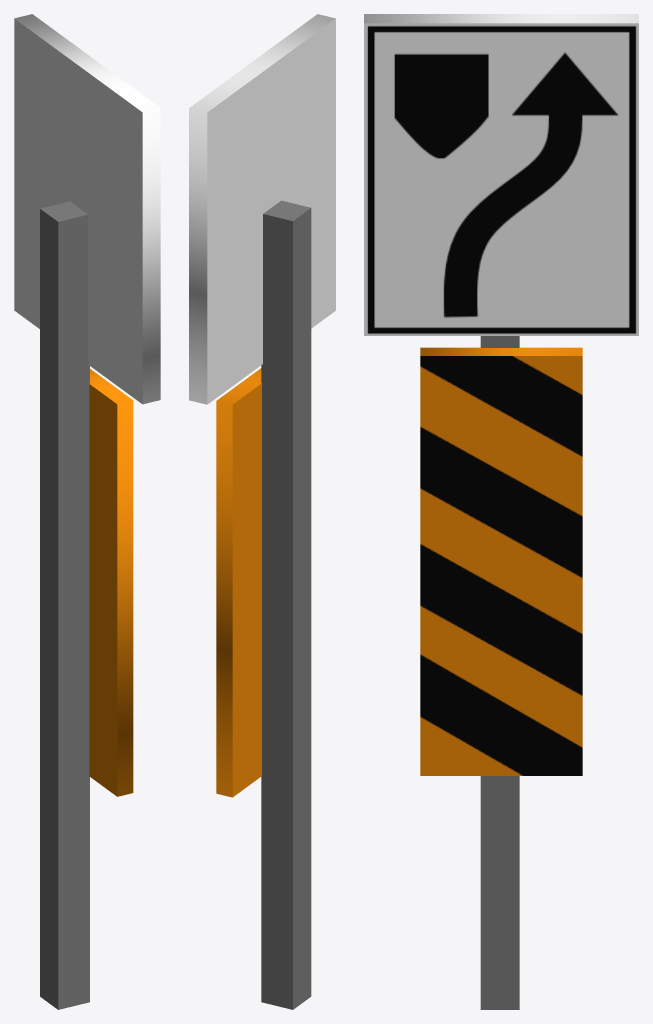
Rendered from sign14.fbx.
The picture shows the model from 3 angles, left to right: view 1: azimuth 30°, elevation 25°; view 2: azimuth 150°, elevation 25°; view 3: azimuth 270°, elevation 25°; orthographic projection. The views are drawn at different scales.
Visible parts, largest first — view 1: Cylinder.000; view 2: Cylinder.000; view 3: Cylinder.000.
Part boxes in pixels (<box>): Cylinder.000: <box>14,14,160,1009</box>; Cylinder.000: <box>189,14,335,1009</box>; Cylinder.000: <box>364,14,638,1009</box>.
Size of the model in its own units: 18.89 by 349 by 87.3.
